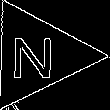N_N: (14, 30, 61, 81)
